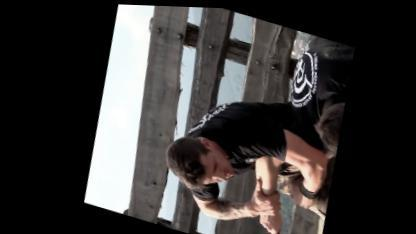knife: (244, 211, 304, 233)
